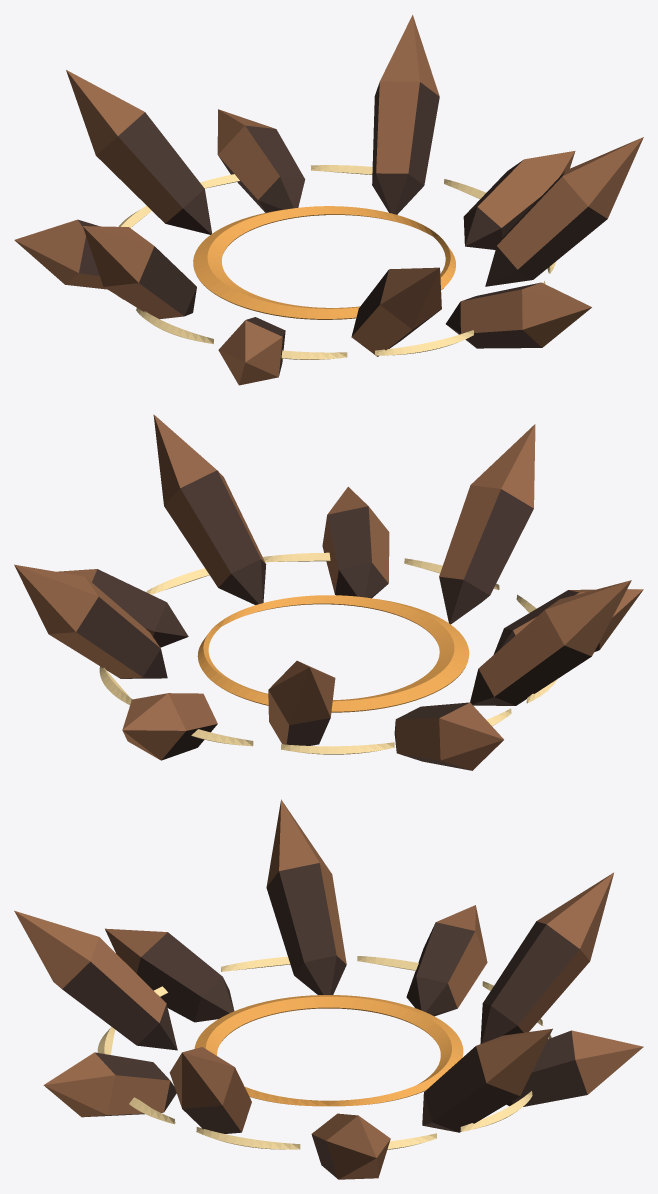
File: VFX_39_RocciaFagliaRadiale.fbx
3 renders of one model, top to bottom at view 1: azimuth 30°, elevation 25°; view 2: azimuth 150°, elevation 25°; view 3: azimuth 270°, elevation 25°, orthographic. The views are drawn at different scales.
Visible parts, largest first — view 1: VFX_39_RocciaFagliaRadiale; view 2: VFX_39_RocciaFagliaRadiale; view 3: VFX_39_RocciaFagliaRadiale.
Boxes of the visible parts, box(x1,y1,x2,y2) form: VFX_39_RocciaFagliaRadiale: box(14, 15, 643, 385); VFX_39_RocciaFagliaRadiale: box(14, 414, 643, 770); VFX_39_RocciaFagliaRadiale: box(14, 799, 643, 1179).
Size of the model in its own units: 436 by 118 by 435.
1 material, 1 textured.
